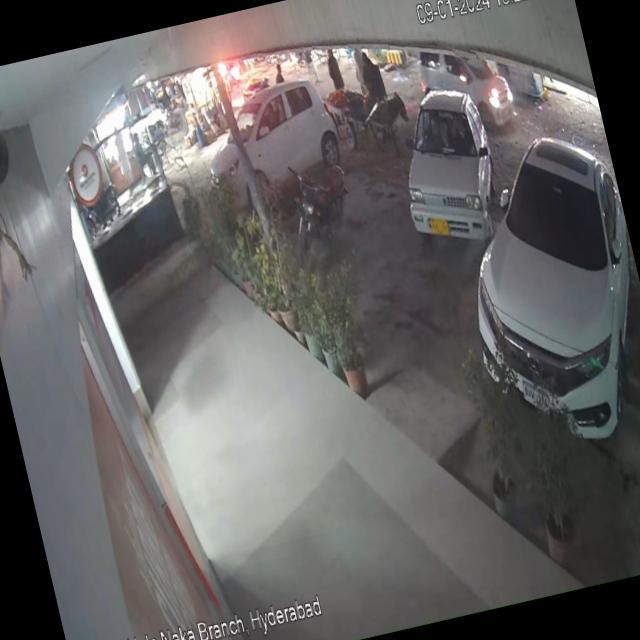Car: (425, 80, 640, 472), (382, 59, 518, 277), (172, 59, 350, 206)
Motorcycle: (280, 144, 362, 258)
